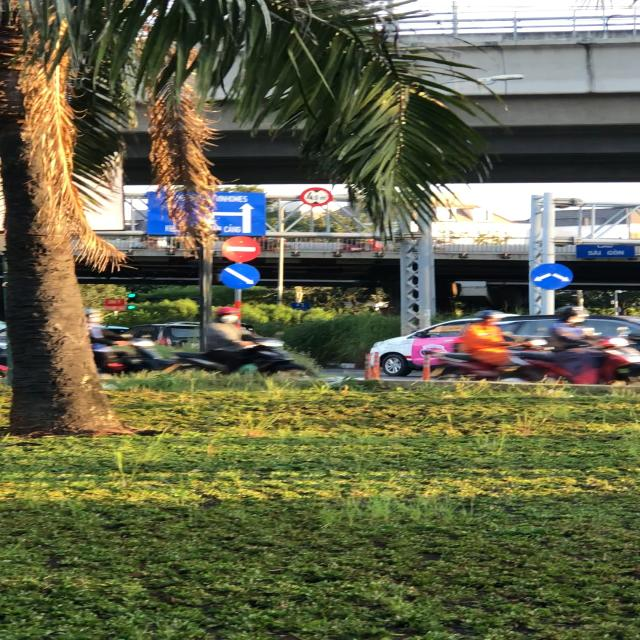Bien bao cam di nguoc chieu: (220, 234, 264, 262)
Bien bao han che chieu cao: (301, 186, 334, 207)
Bien bao huong phai di vong chuong ngai vat: (214, 260, 266, 290), (528, 262, 576, 291)
